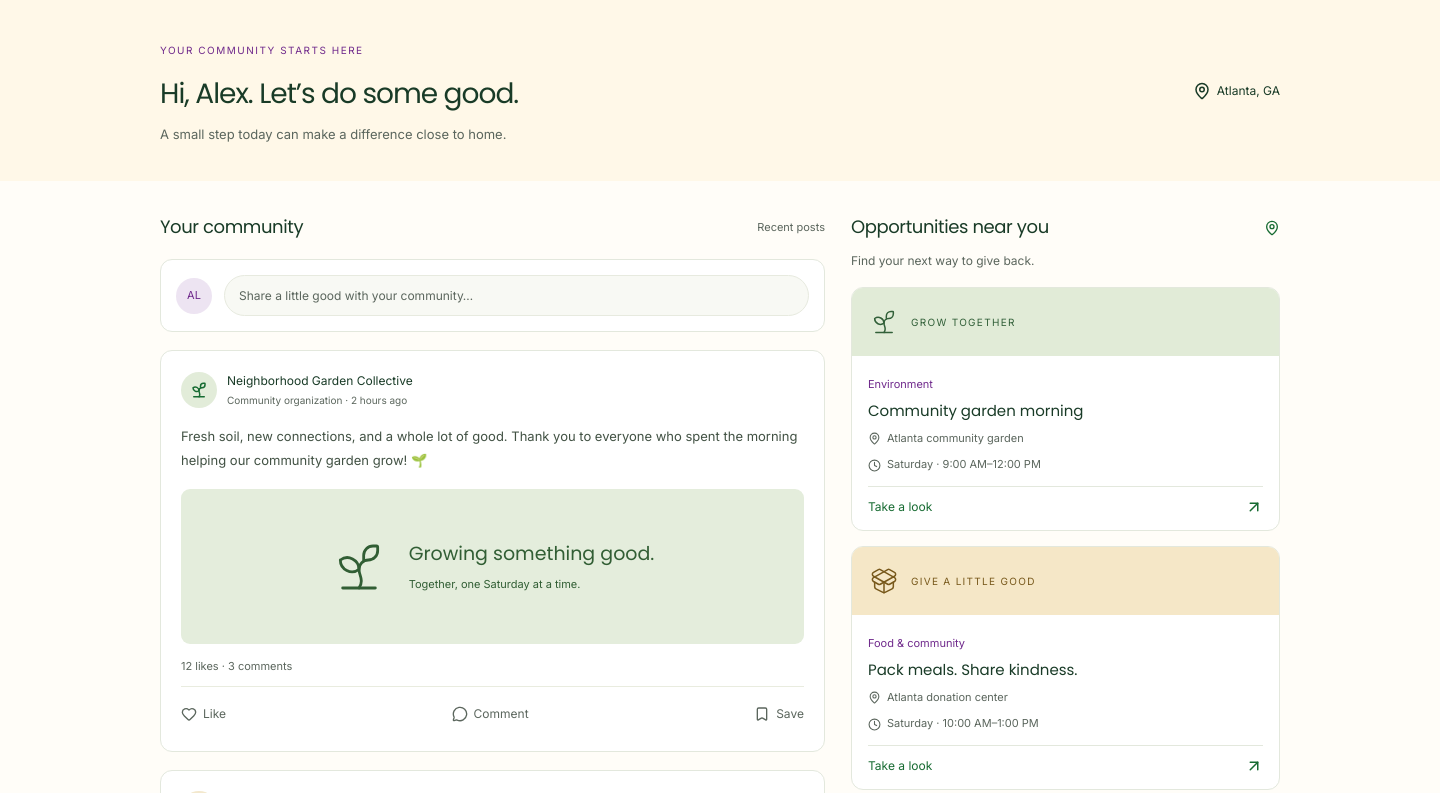
Test: local client walkthrough › shows community posts and opportunities in separate sections with honest preview actions
The image size is (1440, 793).
(page scrolled)
Step 1. Click the button "Like" → (204, 714), box left=181, top=697, right=226, bottom=731
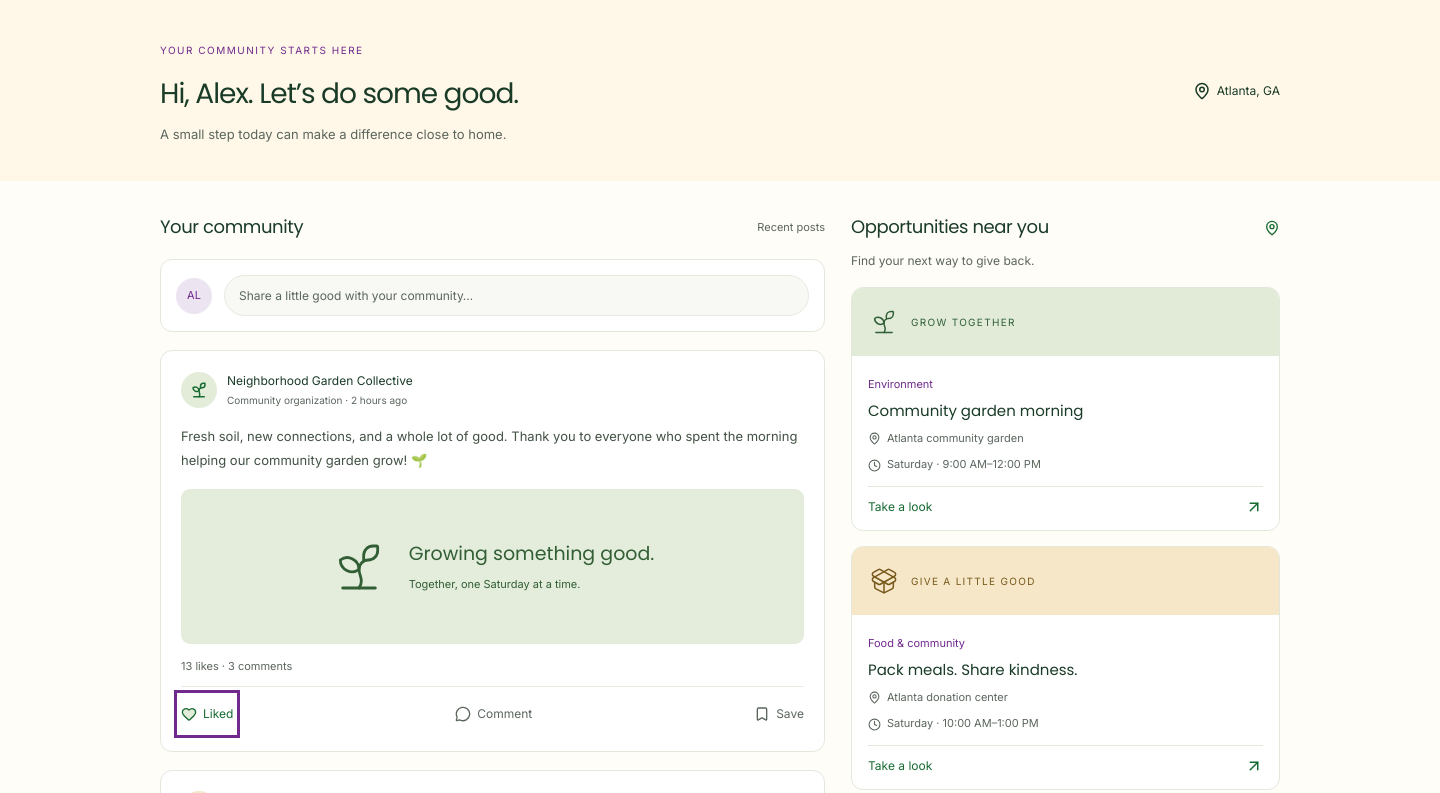
Result: the text "13 likes · 3 comments" is shown at left=181, top=659, right=292, bottom=673
Step 2. Click the button "Take a look" below "Saturday · 9:00 AM–12:00 PM" → (900, 506), box left=868, top=486, right=1263, bottom=516
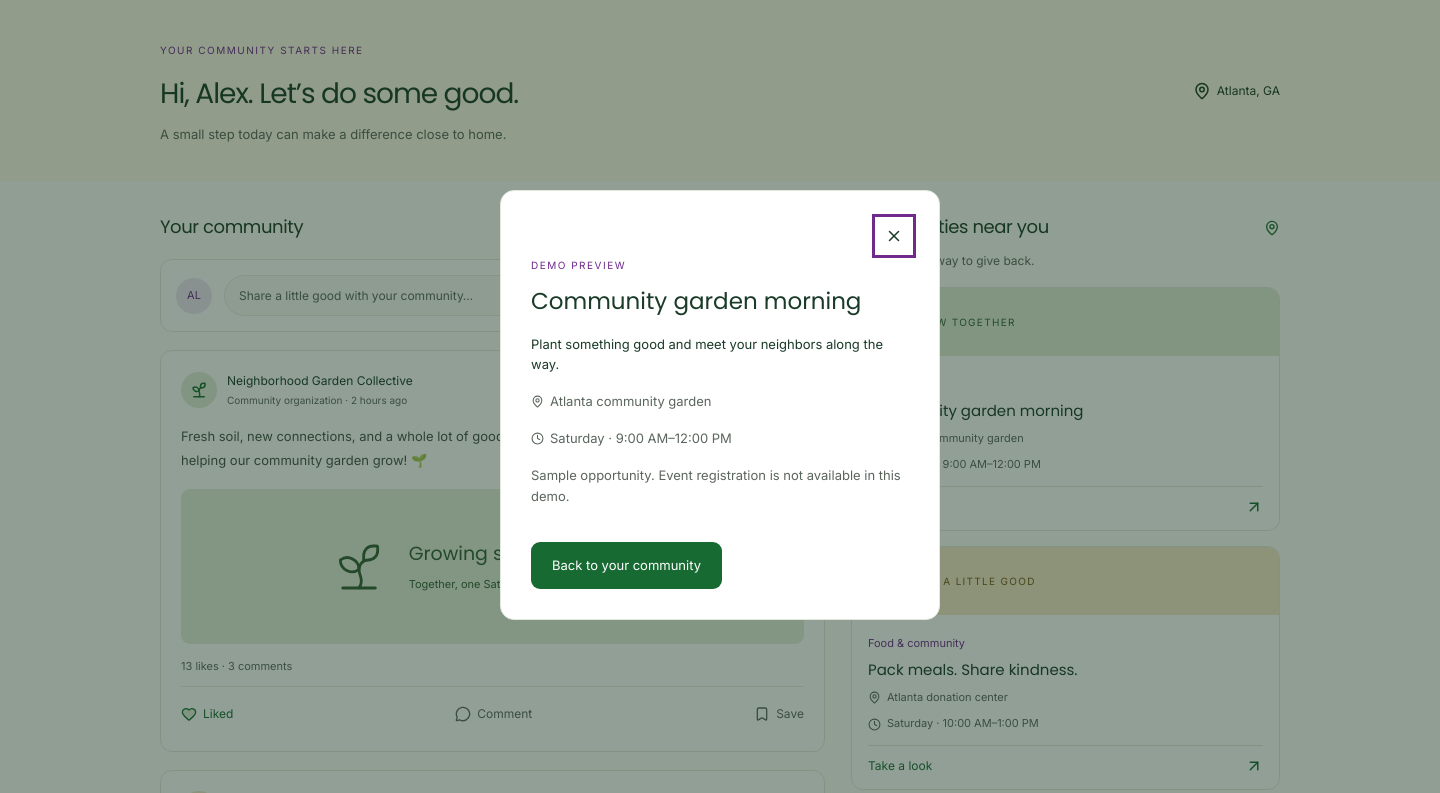
Result: the dialog shows "Event registration is not available" at left=531, top=467, right=901, bottom=504
Step 3. Click the button named "Close preview" → (894, 236), box left=879, top=221, right=909, bottom=251
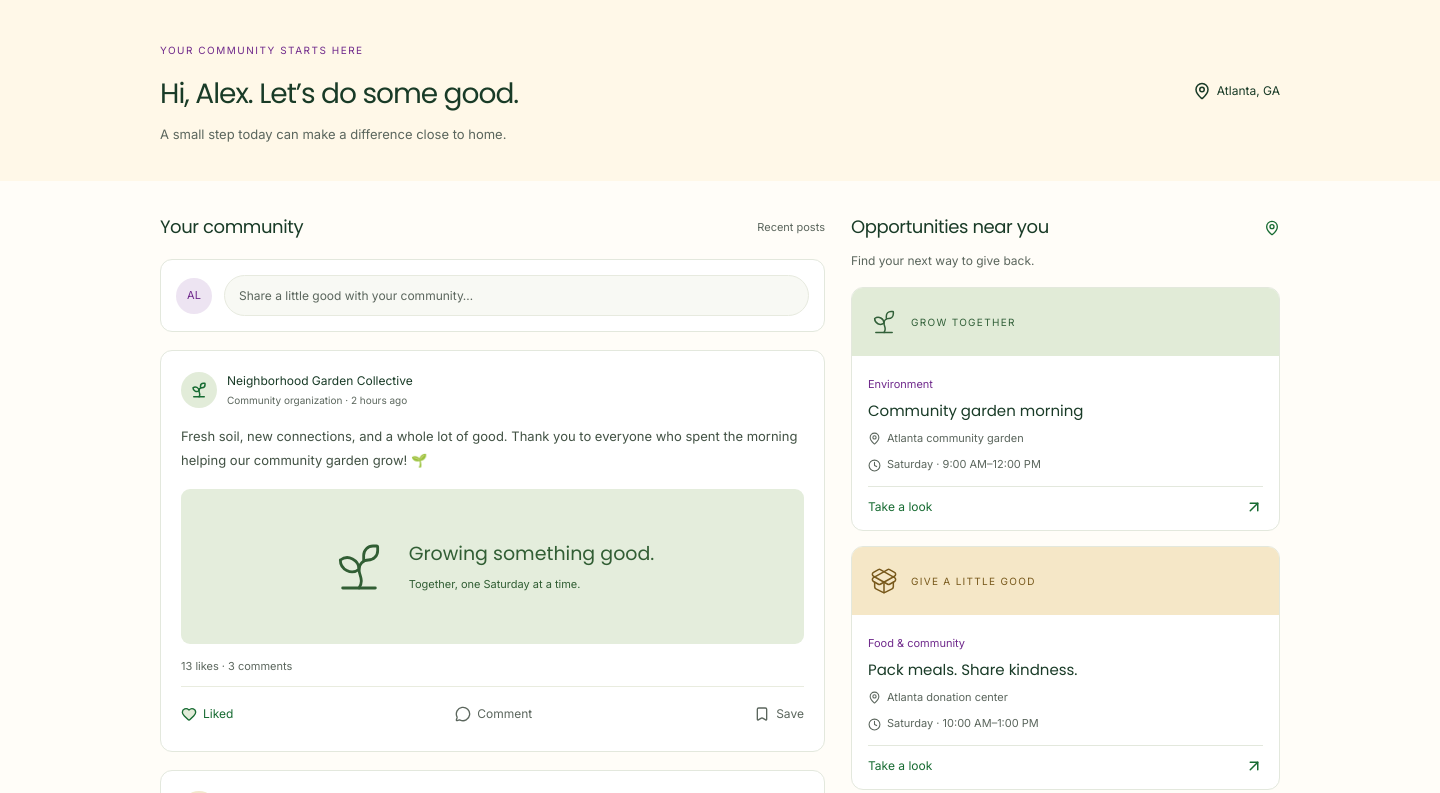
Result: the dialog is gone
